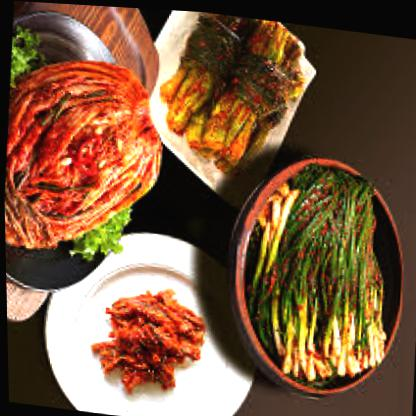Kimchi stew: (1, 47, 166, 243)
green onion Kimchi: (233, 164, 400, 380), (178, 8, 301, 159)
